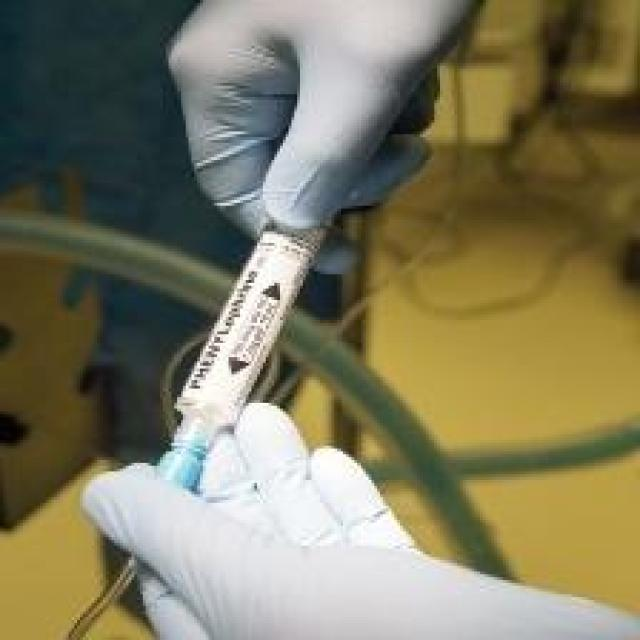syringe: (159, 162, 359, 506)
